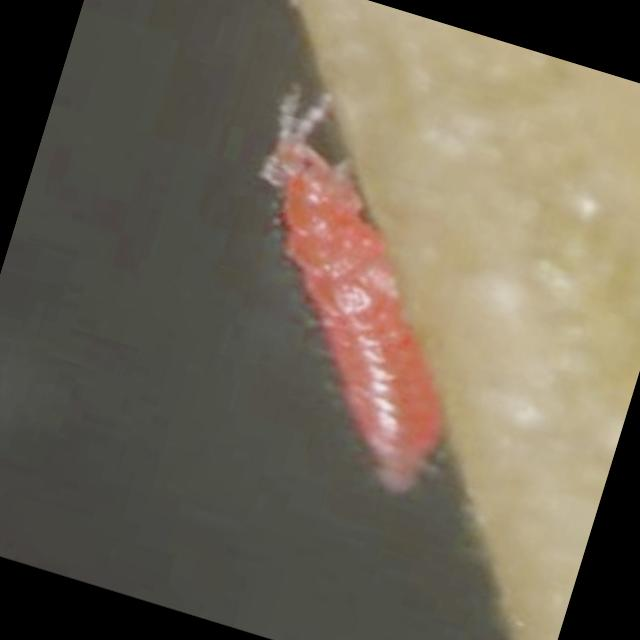melon thrips: (121, 52, 596, 580)
